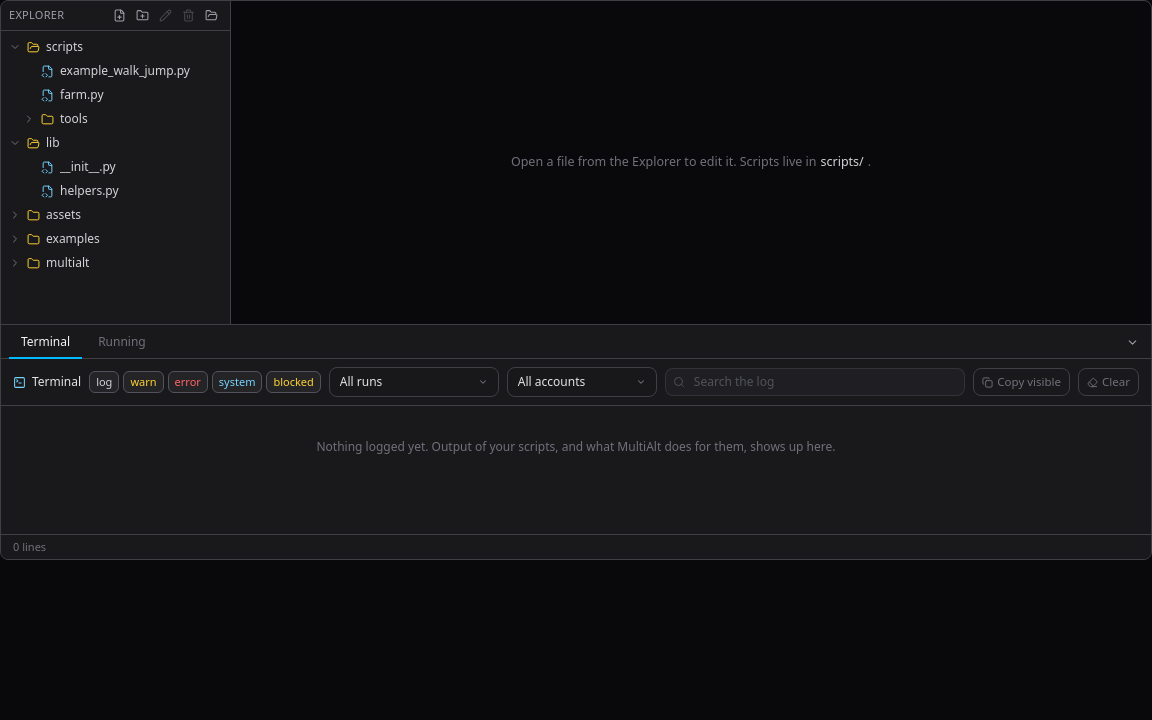
Test case: CodeTab editor and tabs › opens a file from the Explorer into a tab and shows its text
Click the list item "farm.py" at (72, 94), box [41,86,104,103]
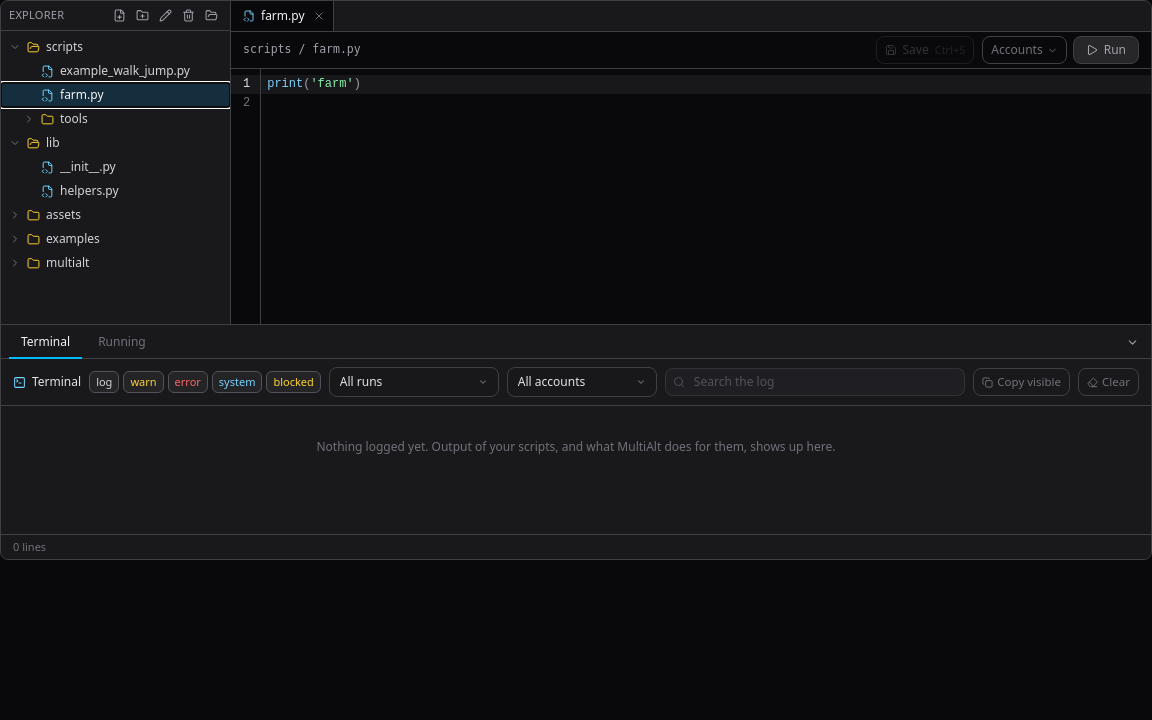
Now the field named "Source of farm.py" is shown, box [261,75,1151,94]
